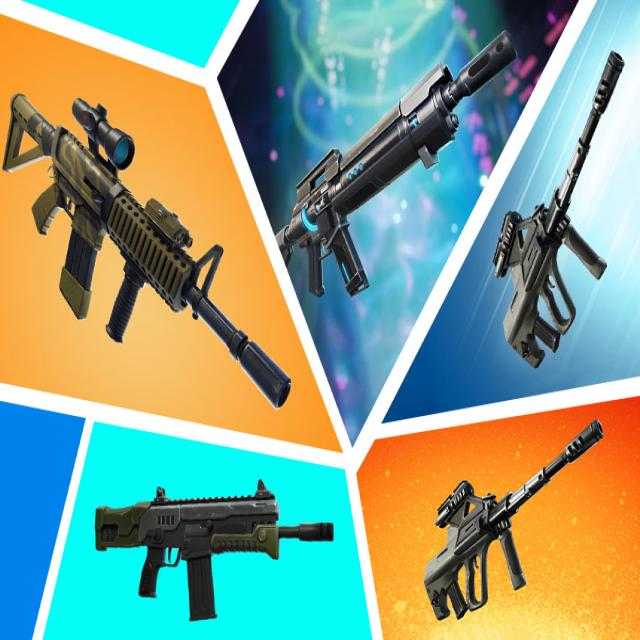Rifle: (2, 93, 291, 411), (275, 31, 517, 299), (493, 51, 625, 370), (424, 420, 603, 622), (95, 480, 335, 621)
